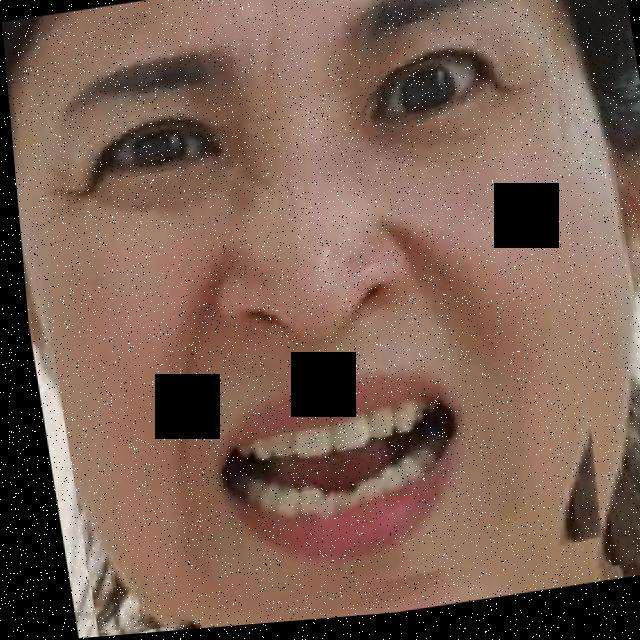anger: (2, 0, 631, 640)
